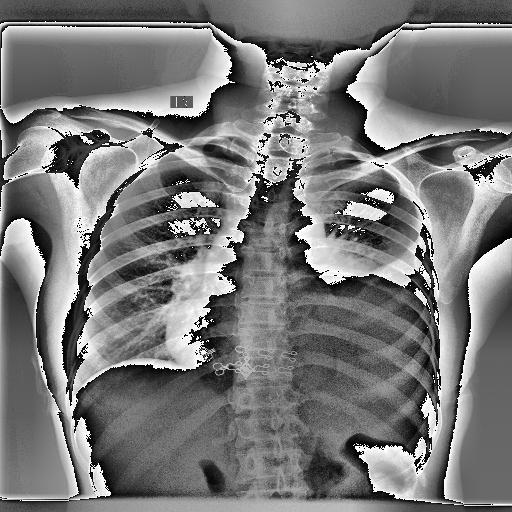0- Aortic enlargement: (264, 204, 326, 248)
10- Pleural effusion: (291, 224, 433, 416), (306, 232, 431, 392), (325, 234, 436, 388)
11- Pleural thickening: (310, 148, 346, 158)
7- Lung Opacity: (165, 288, 237, 368)
